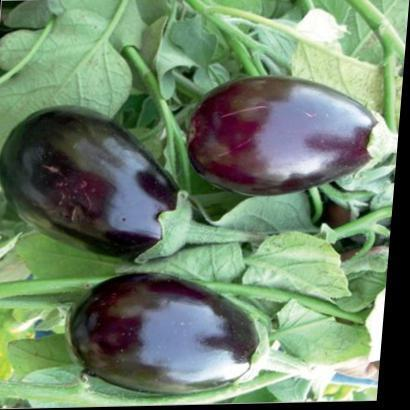eggplant: (186, 74, 404, 226), (0, 152, 216, 274), (84, 291, 291, 407)
